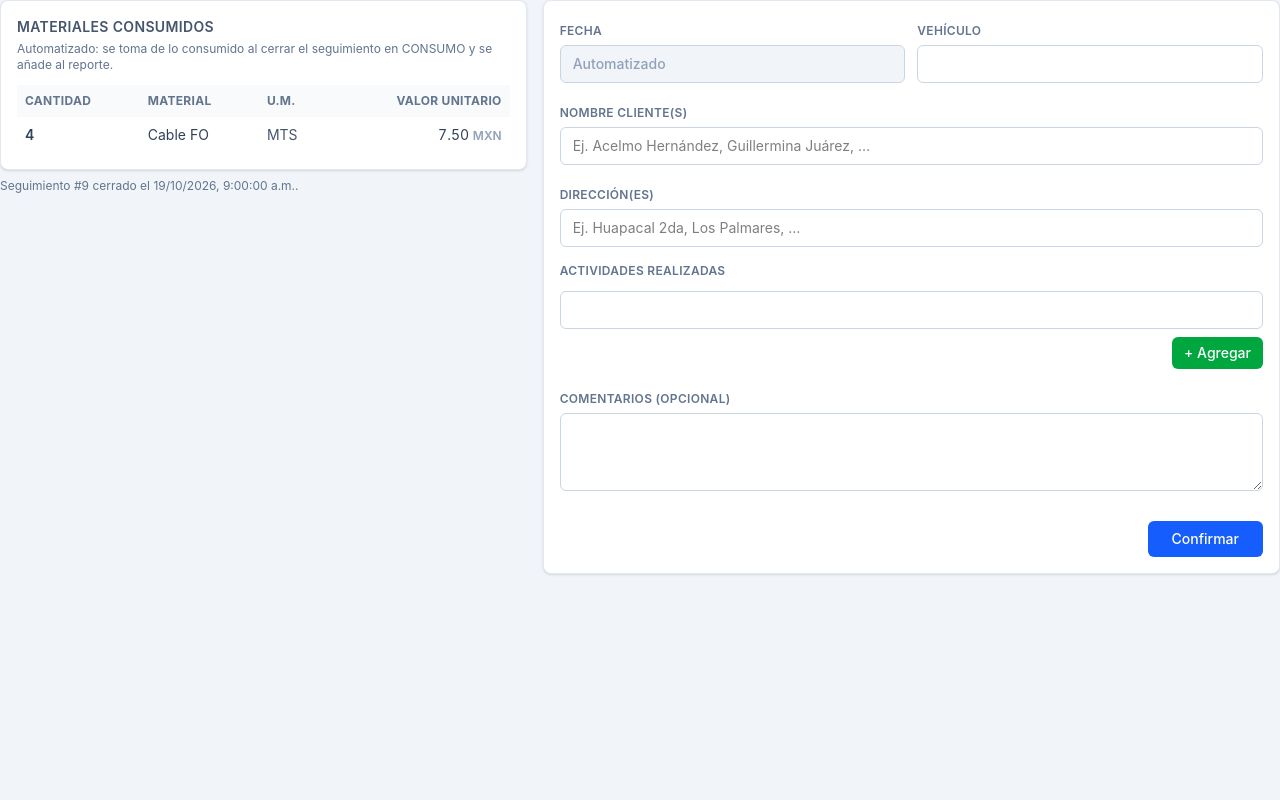
Scenario: ActividadesPanel — confirmación (REQ-ACT-017) › éxito: envía el payload, muestra folio, invalida y re-lee el pendiente
Type "Camioneta 12" into the field labelled "Vehículo" at [1090, 64], box [917,45,1263,83]
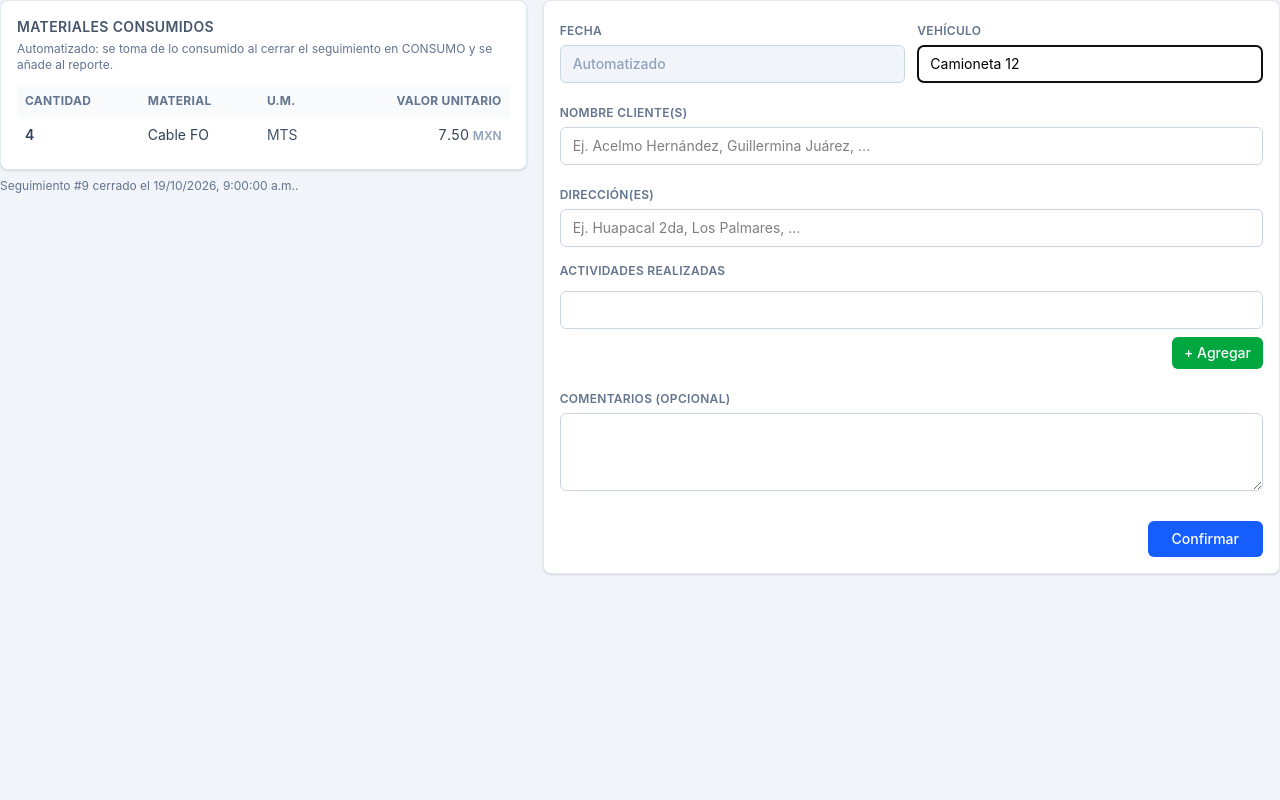
Type "Cliente A" into the field labelled "Nombre Cliente(s)" at [911, 146], box [560,127,1263,165]
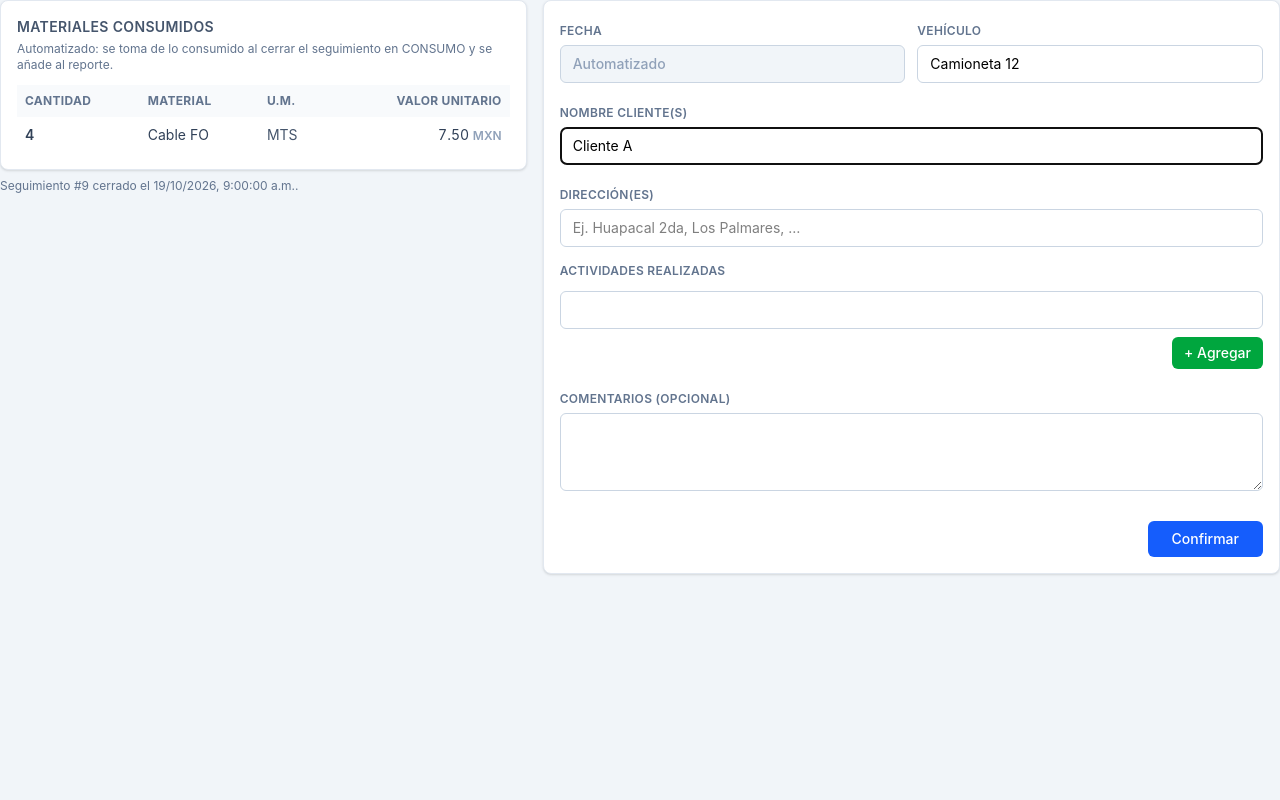
Type "Calle 1" into the field labelled "Dirección(es)" at [911, 228], box [560,209,1263,247]
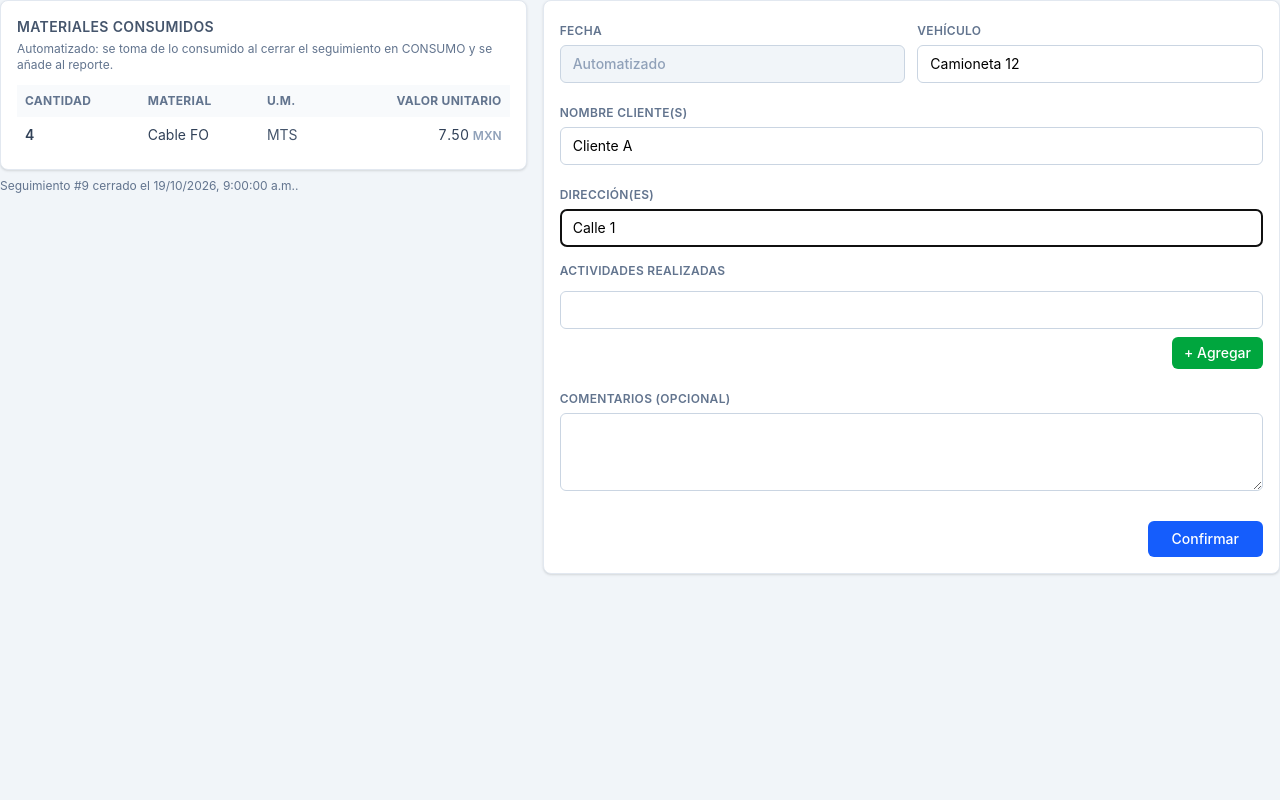
Type "Tendido de fibra" into the field named "Actividad realizada 1" at [911, 310], box [560,291,1263,329]
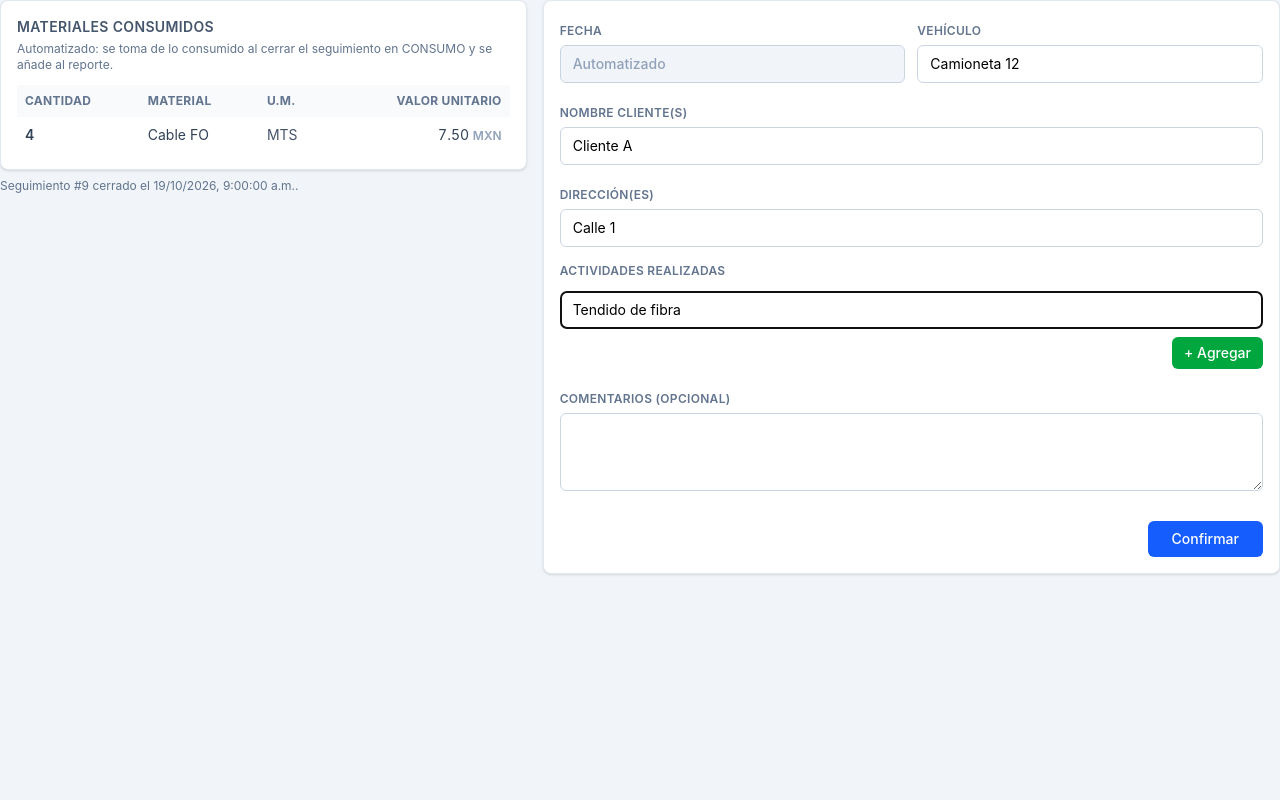
Click the button "Confirmar" at [1205, 539], box [1148,521,1263,557]
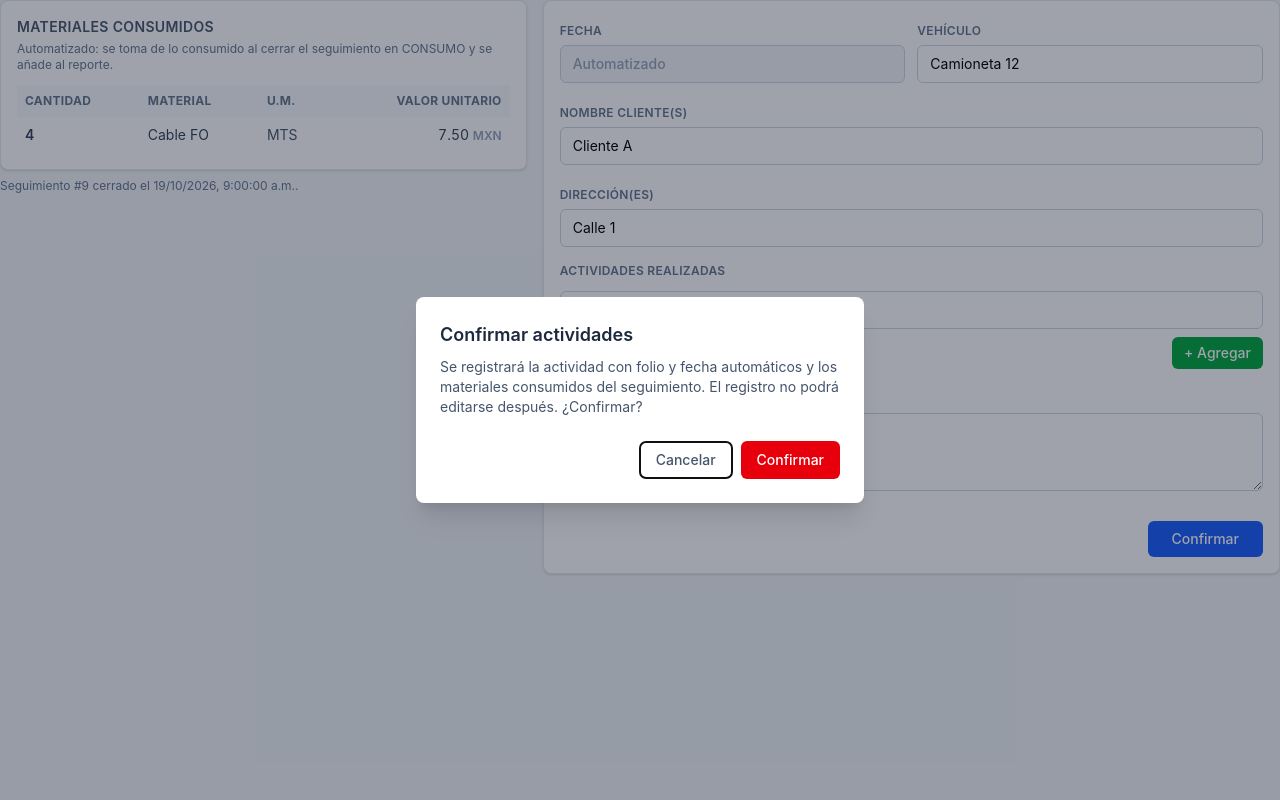
Result: the heading "Confirmar actividades" is shown at [440,324,633,345]
Click the button "Confirmar" at [790, 460], box [741,441,840,479]
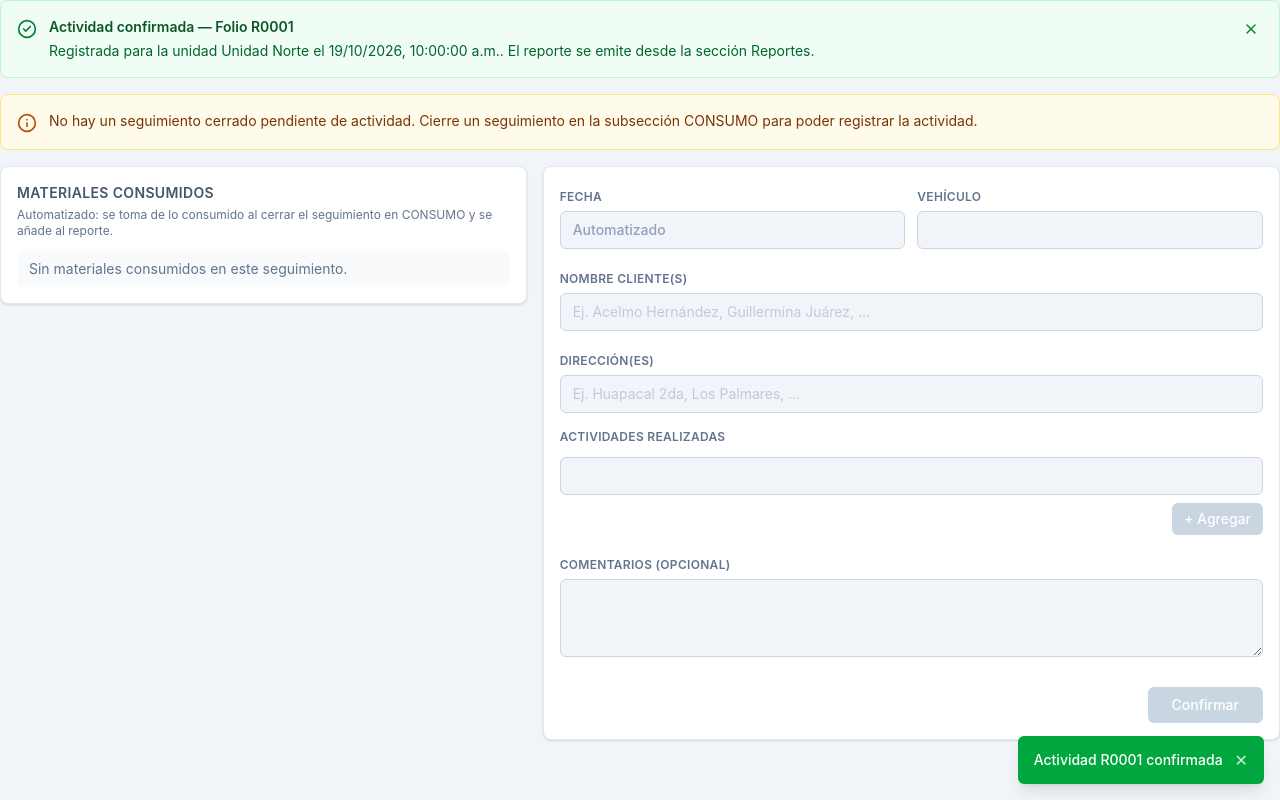
Result: the text "Actividad R0001 confirmada" is shown at [1034,750,1223,770]
Result: the text "Actividad confirmada — Folio R0001" is shown at [49,18,294,35]
Result: the text "No hay un seguimiento cerrado pendiente de actividad" is shown at [49,112,978,129]
